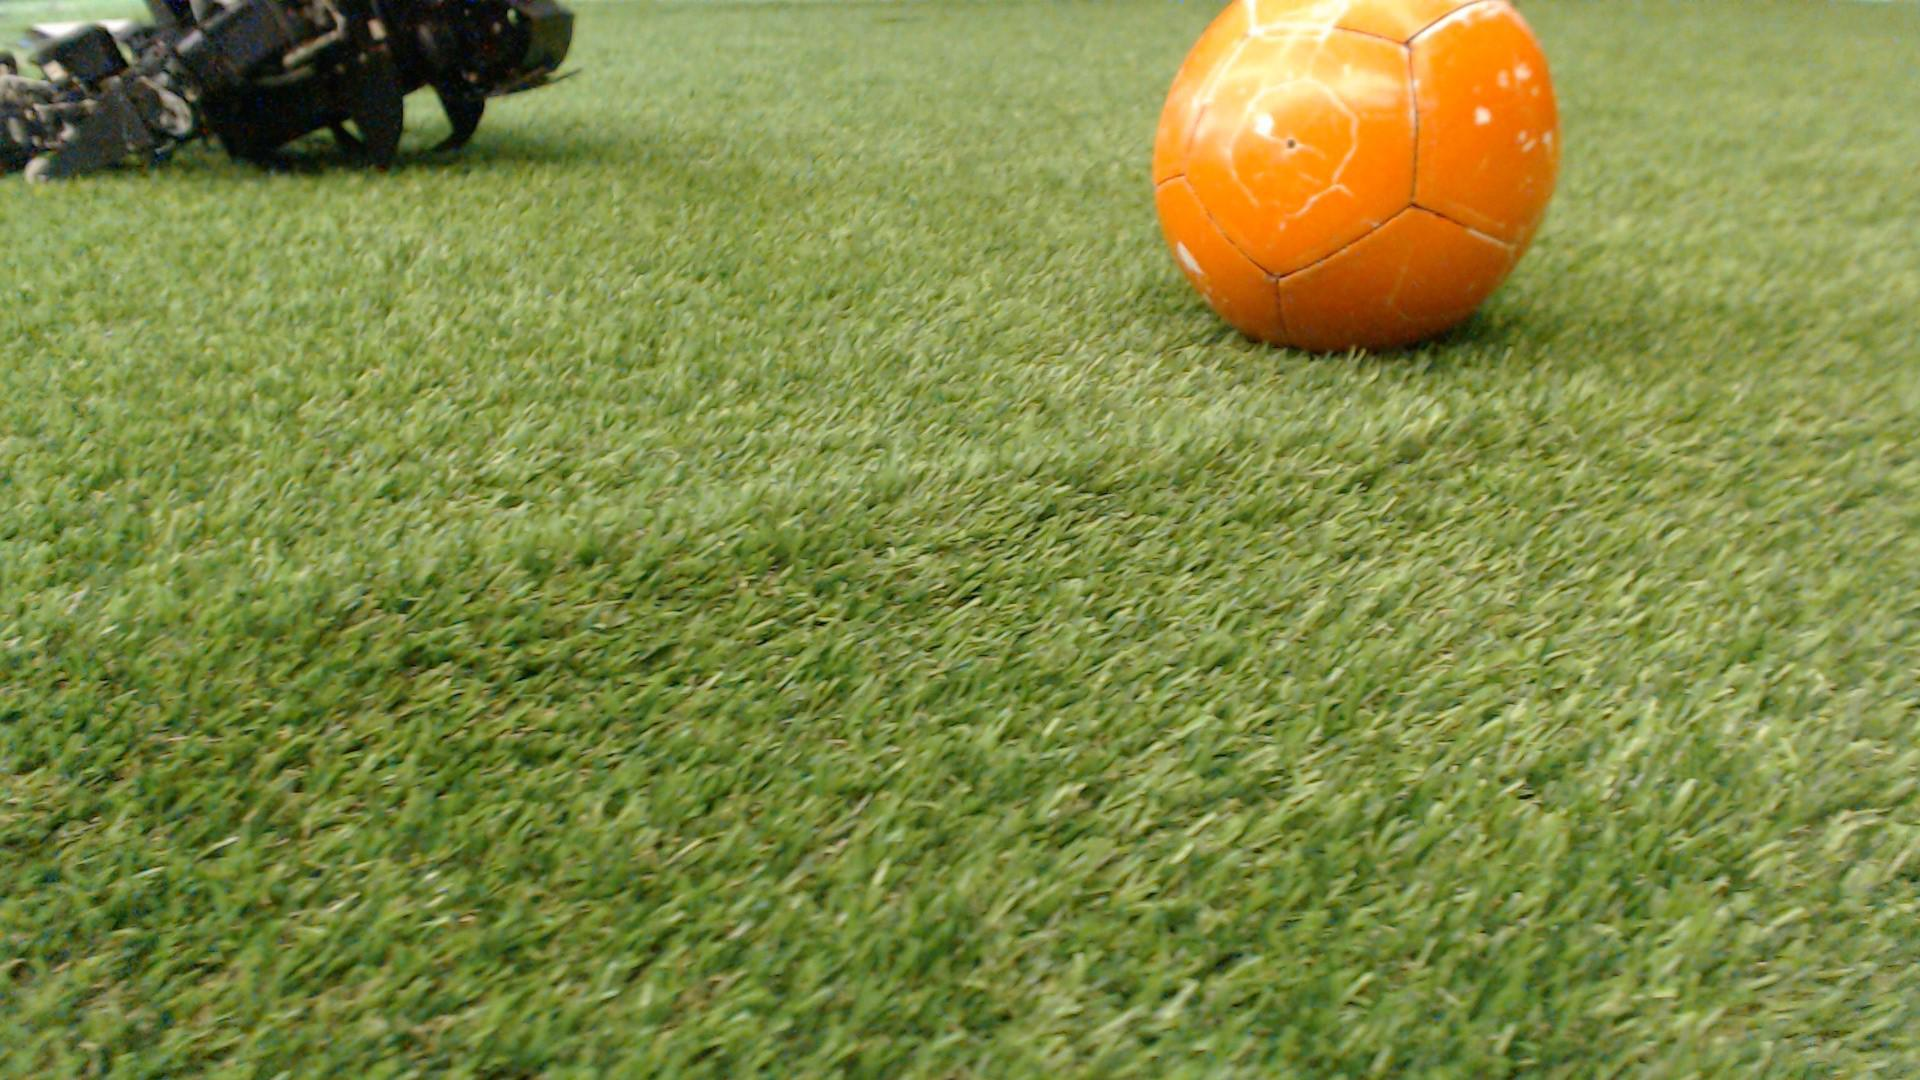bola: (1097, 0, 1592, 392)
